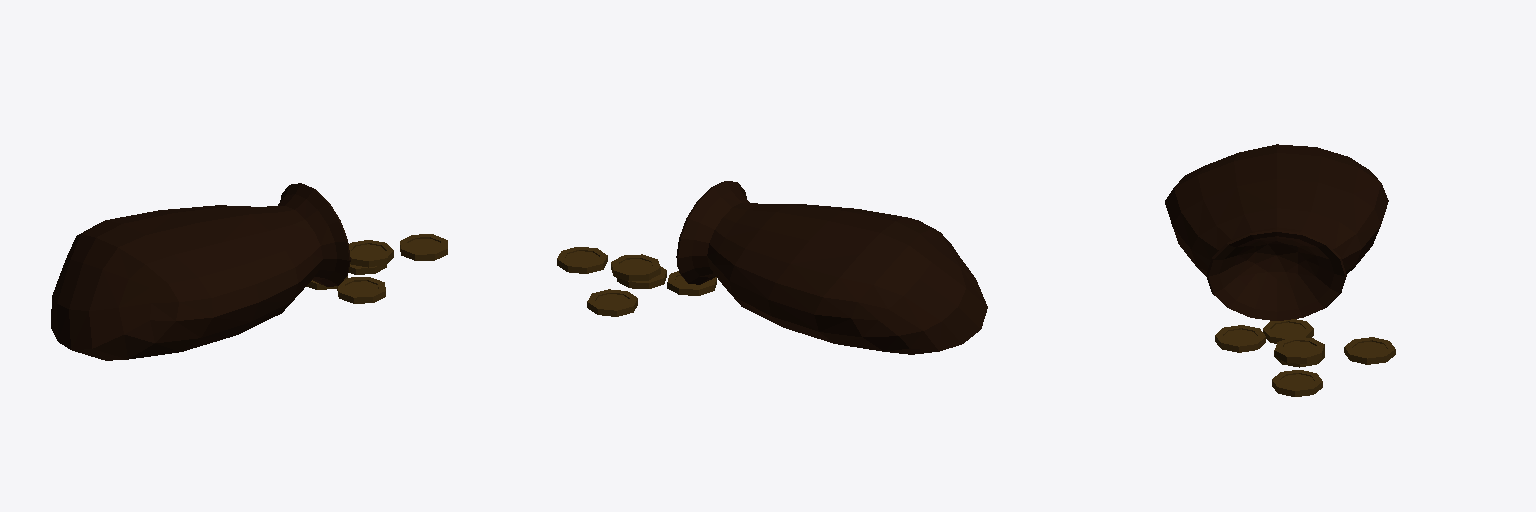
The model's file is Bag_Coins.obj.
The picture shows the model from 3 angles: view 1: azimuth 30°, elevation 25°; view 2: azimuth 150°, elevation 25°; view 3: azimuth 270°, elevation 25°; orthographic projection.
Visible parts, largest first — view 1: Bag_Coins; view 2: Bag_Coins; view 3: Bag_Coins.
Part boxes in pixels (bbox=[...]): Bag_Coins: bbox=[51, 183, 447, 360]; Bag_Coins: bbox=[557, 181, 987, 354]; Bag_Coins: bbox=[1165, 144, 1395, 396].
Bounding box in the file's own units: 0.442 × 0.1146 × 0.2222.